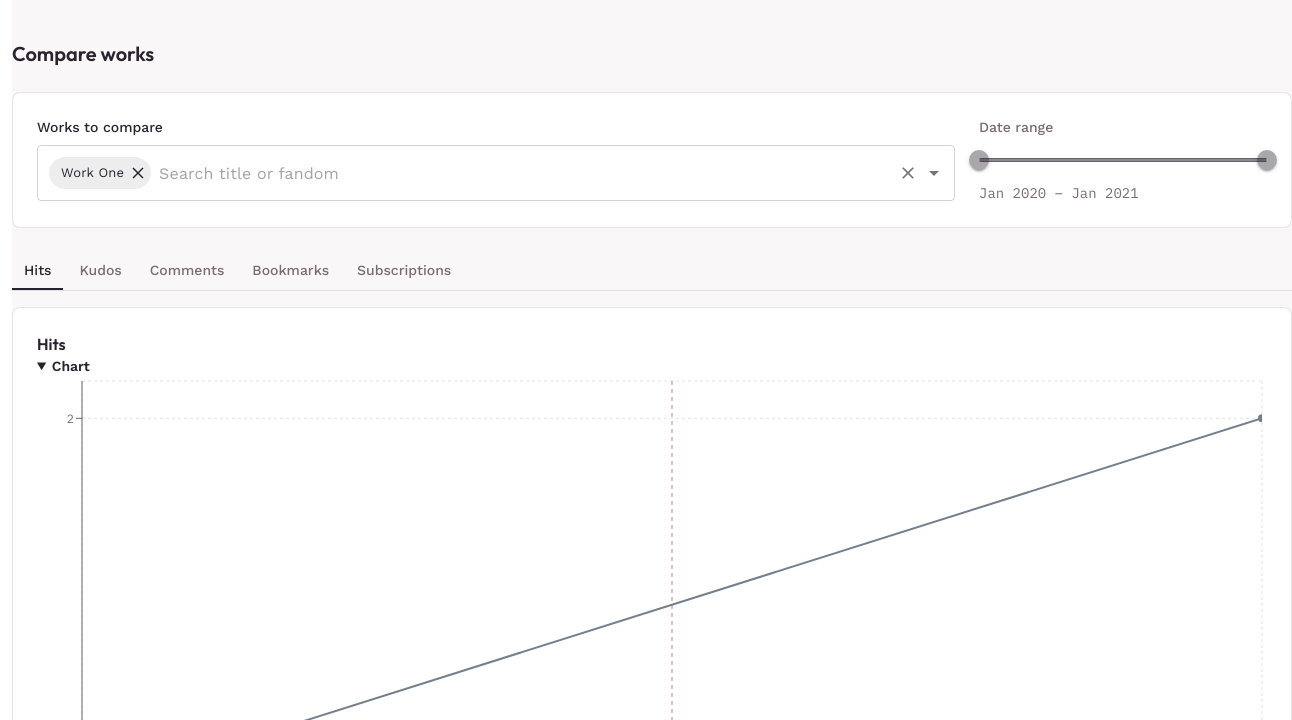
Test: WorkComparisonSection › date-range slider DISABLED state tied to the union-points >2 gate › becomes enabled once the selection's union points exceed 2
Click the dropdown labelled "Works to compare" at (522, 173), box [154,154,890,192]
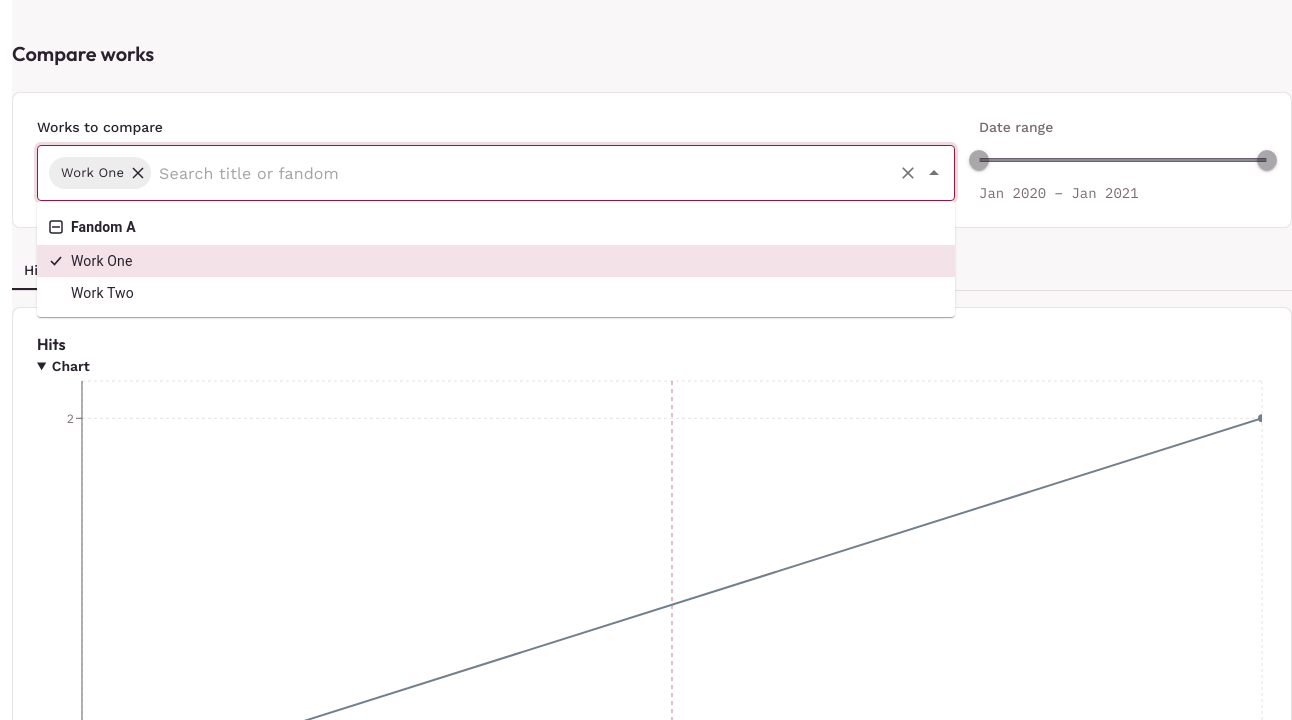
Click the option "Work Two" at (102, 293), box [71,285,134,301]
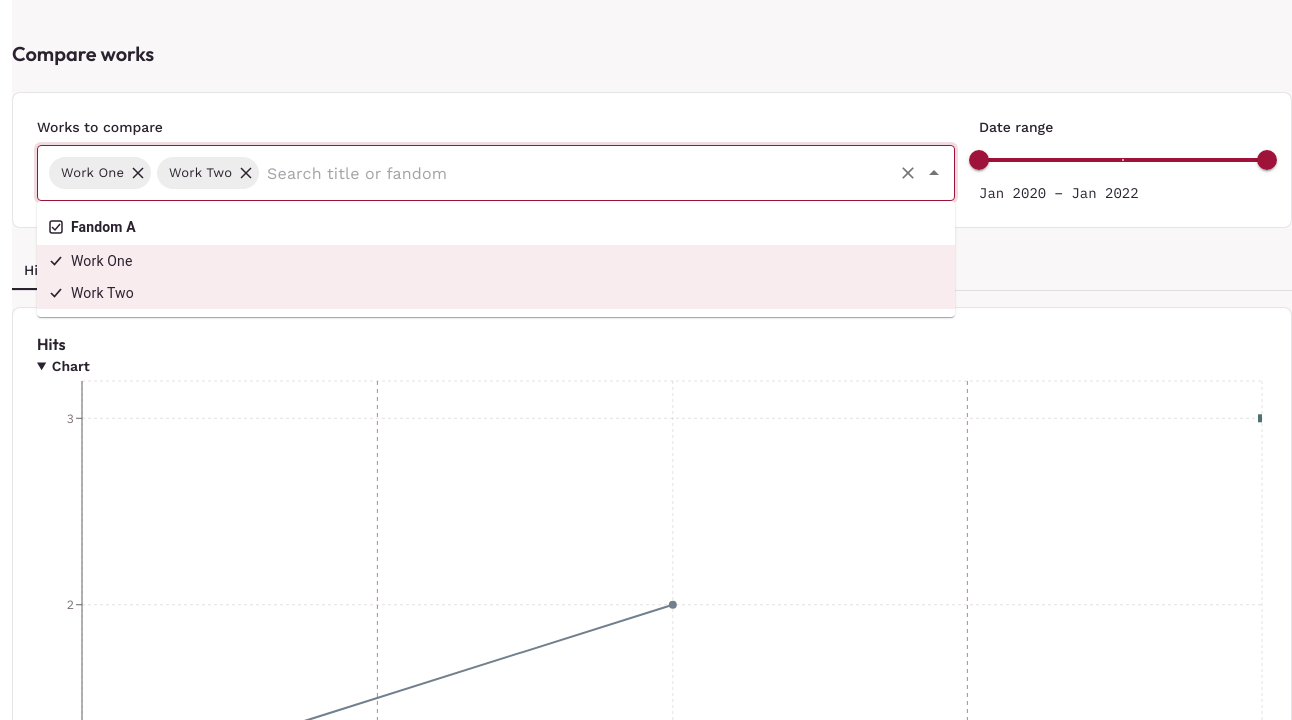
Result: the slider named "Range start" is enabled at [969,150,989,170]
Result: the slider named "Range end" is enabled at [1257,150,1277,170]
